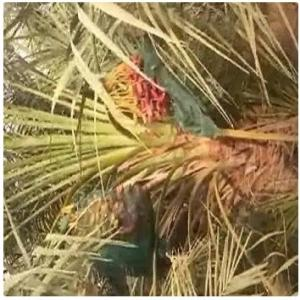palm tree: (3, 2, 298, 294)
